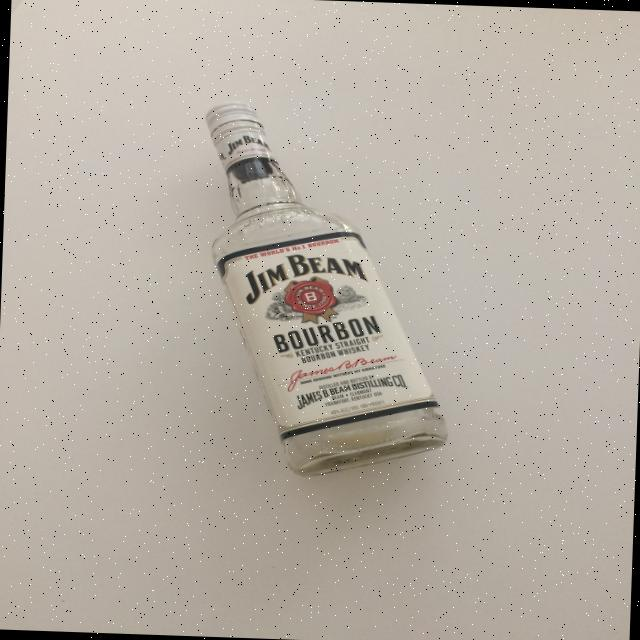glass: (191, 99, 459, 481)
